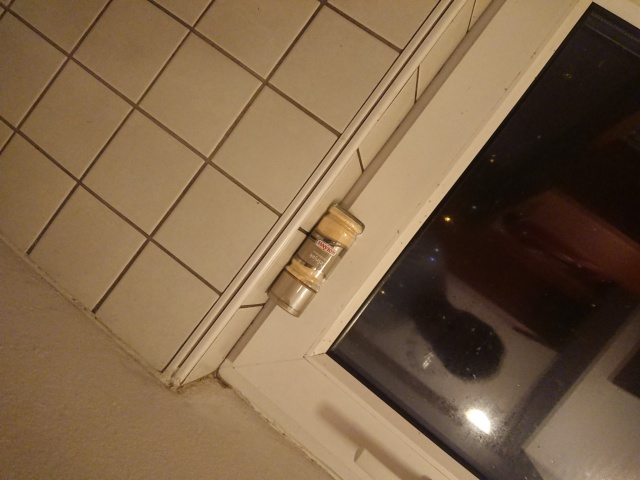Kotanyi Garlic Granules 70g: (265, 202, 367, 320)
